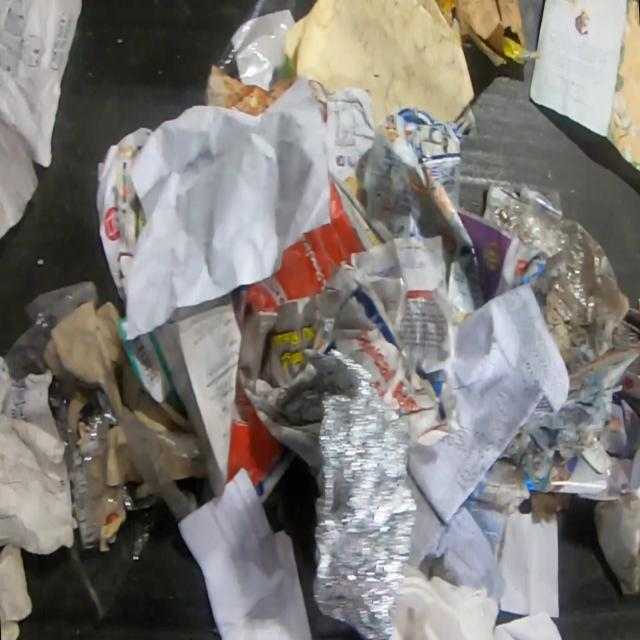cardboard: (238, 264, 395, 493), (43, 298, 196, 432), (244, 179, 368, 311), (436, 0, 543, 69), (593, 490, 640, 596), (228, 415, 284, 487), (100, 510, 128, 553)
metal: (310, 346, 419, 640)
soft_plastic: (46, 366, 208, 561), (490, 187, 632, 350), (2, 278, 101, 383), (214, 0, 309, 93)
